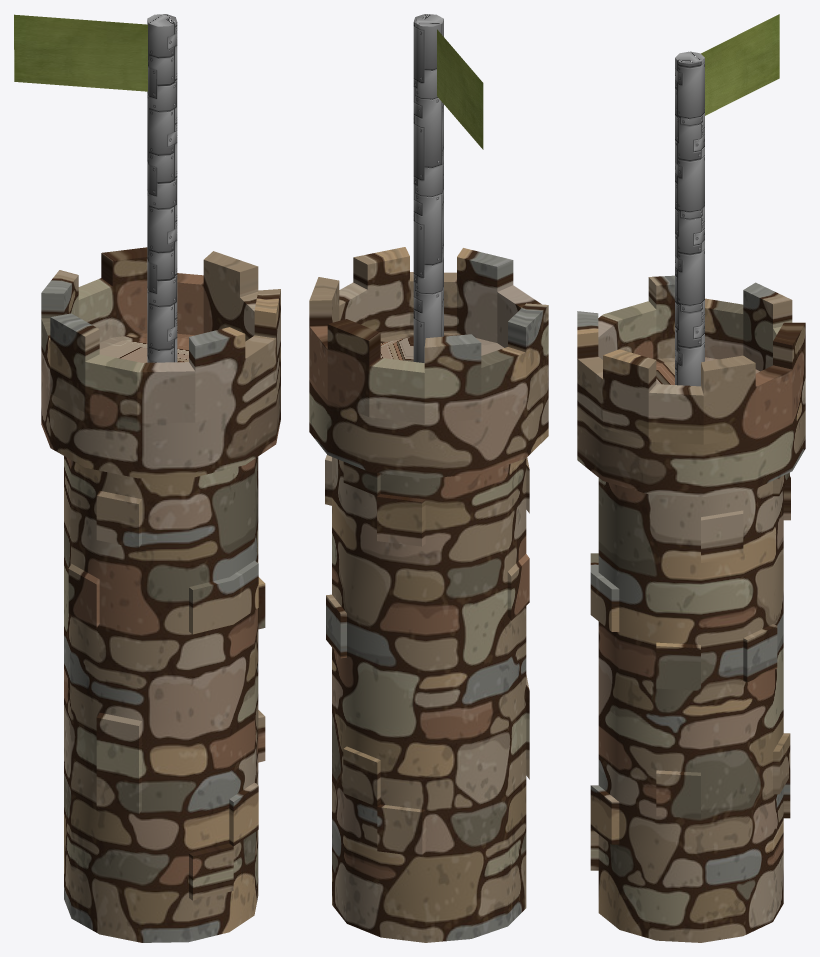
The model's file is CP claim.fbx.
3 views of the same model, side by side, from view 1: azimuth 30°, elevation 25°; view 2: azimuth 150°, elevation 25°; view 3: azimuth 270°, elevation 25° (orthographic). The views are drawn at different scales.
Visible parts, largest first — view 1: tour, Cylinder002, Plane001; view 2: tour, Cylinder002, Plane001; view 3: tour, Cylinder002, Plane001.
Part boxes in pixels (bbox=[...]): tour: bbox=[41, 247, 280, 942]; Cylinder002: bbox=[147, 14, 177, 362]; Plane001: bbox=[14, 14, 147, 91]; tour: bbox=[309, 247, 548, 942]; Cylinder002: bbox=[413, 14, 443, 362]; Plane001: bbox=[437, 29, 483, 149]; tour: bbox=[577, 275, 805, 942]; Cylinder002: bbox=[675, 51, 704, 386]; Plane001: bbox=[701, 14, 779, 115].
Bounding box in the file's own units: 36.8 × 149 × 36.53.
